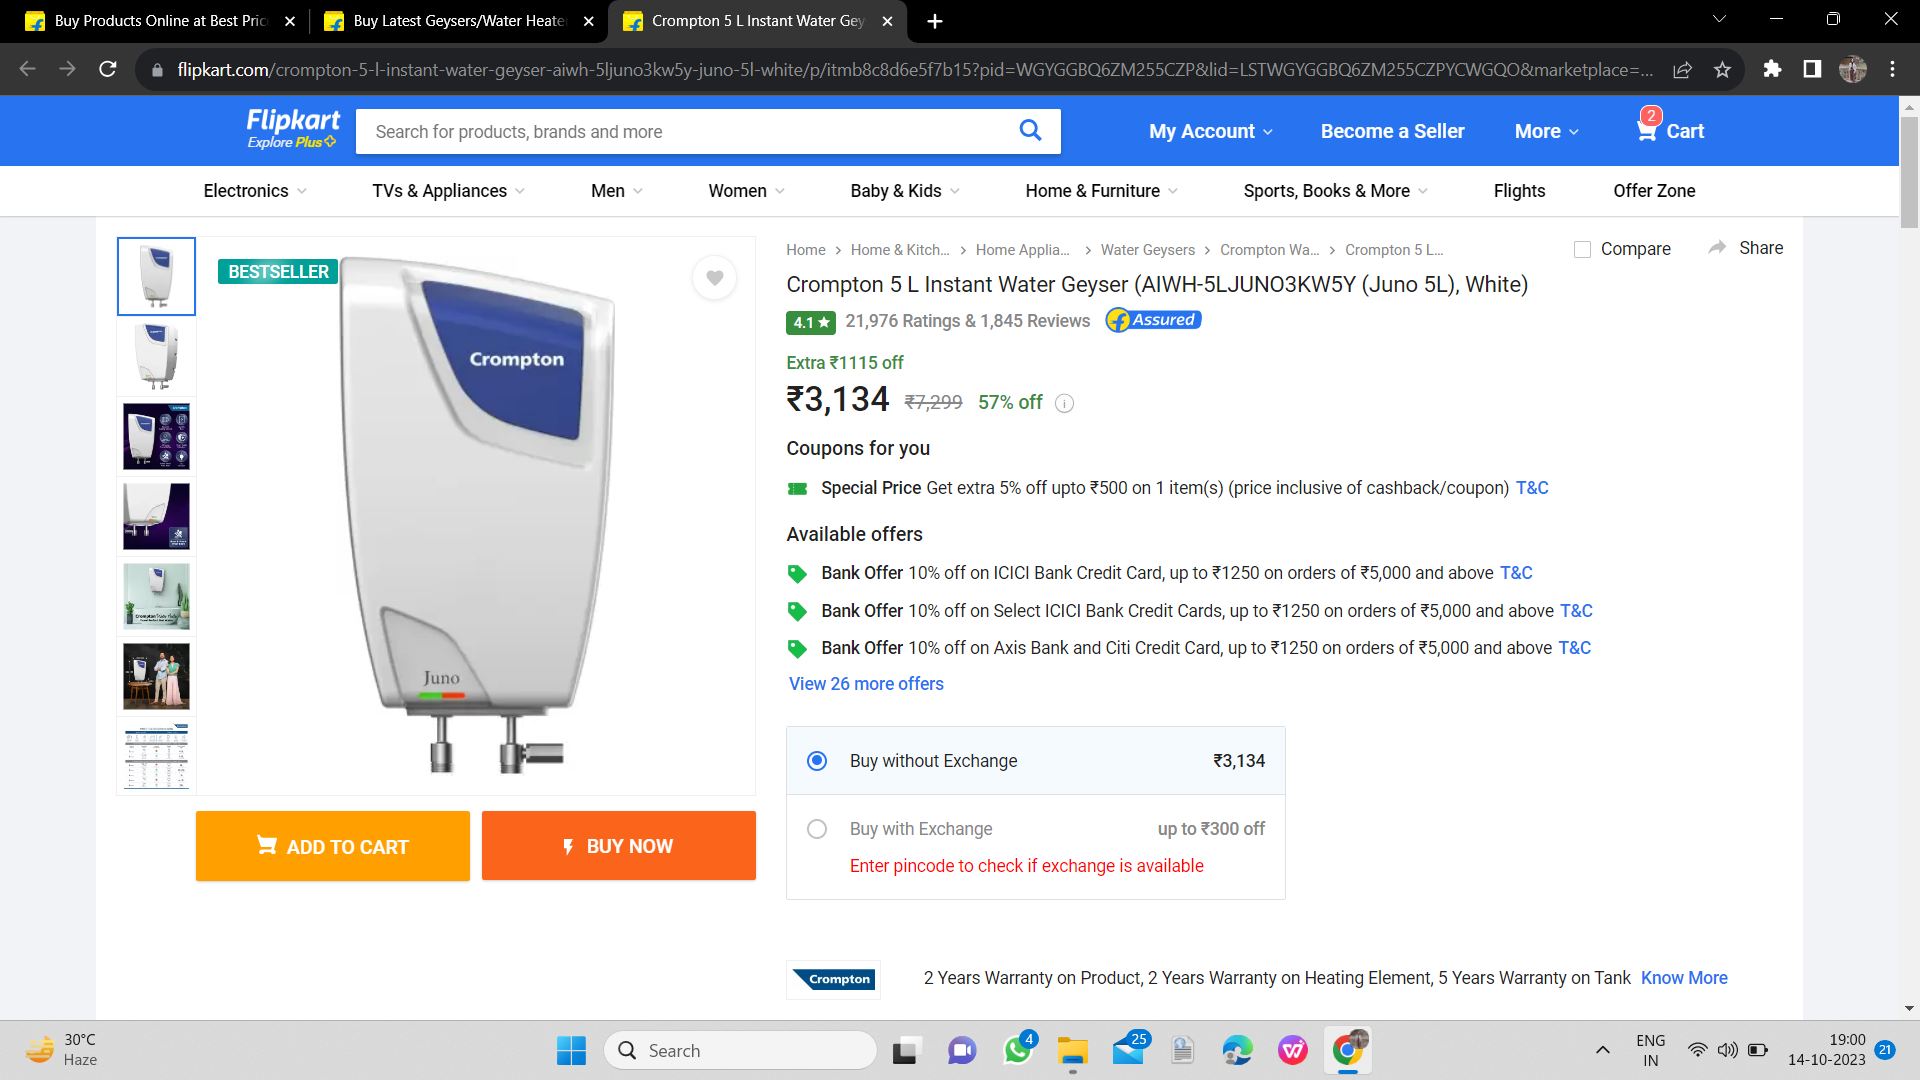Image: (207, 237, 753, 774)
Paragraph: (777, 561, 1607, 695), (186, 807, 766, 889), (803, 803, 1271, 893), (1137, 93, 1724, 157), (774, 466, 1555, 511), (770, 259, 1534, 302), (800, 729, 1268, 790), (774, 349, 1074, 427), (768, 300, 1223, 341), (777, 434, 932, 462), (777, 522, 941, 544)
